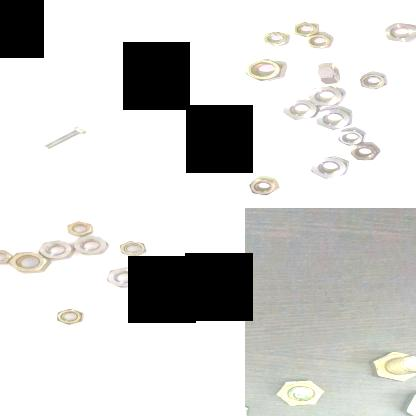Bolts: (359, 348, 416, 384), (267, 378, 326, 410), (41, 124, 89, 152)
NUTS: (100, 265, 150, 290), (308, 156, 352, 182), (316, 106, 360, 132), (245, 57, 288, 83), (306, 83, 352, 107), (277, 96, 319, 122), (8, 250, 50, 275), (35, 238, 75, 260), (380, 20, 416, 44), (72, 233, 106, 258), (314, 58, 344, 85), (347, 141, 381, 163), (51, 306, 88, 326), (356, 72, 394, 90), (288, 19, 322, 38), (247, 176, 279, 196), (334, 128, 367, 147), (258, 30, 292, 48), (119, 240, 152, 258), (64, 218, 92, 238), (302, 34, 336, 50), (0, 250, 14, 266)
